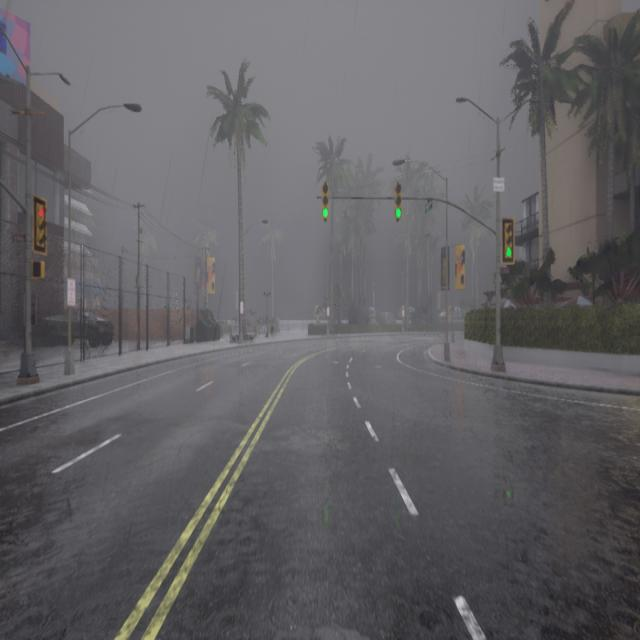6: (38, 200, 46, 222)
9: (32, 192, 48, 252), (502, 217, 514, 264), (393, 180, 403, 221), (322, 178, 329, 222)
bien_hieu_lenh: (393, 207, 402, 223), (504, 245, 513, 260), (321, 206, 329, 220)
